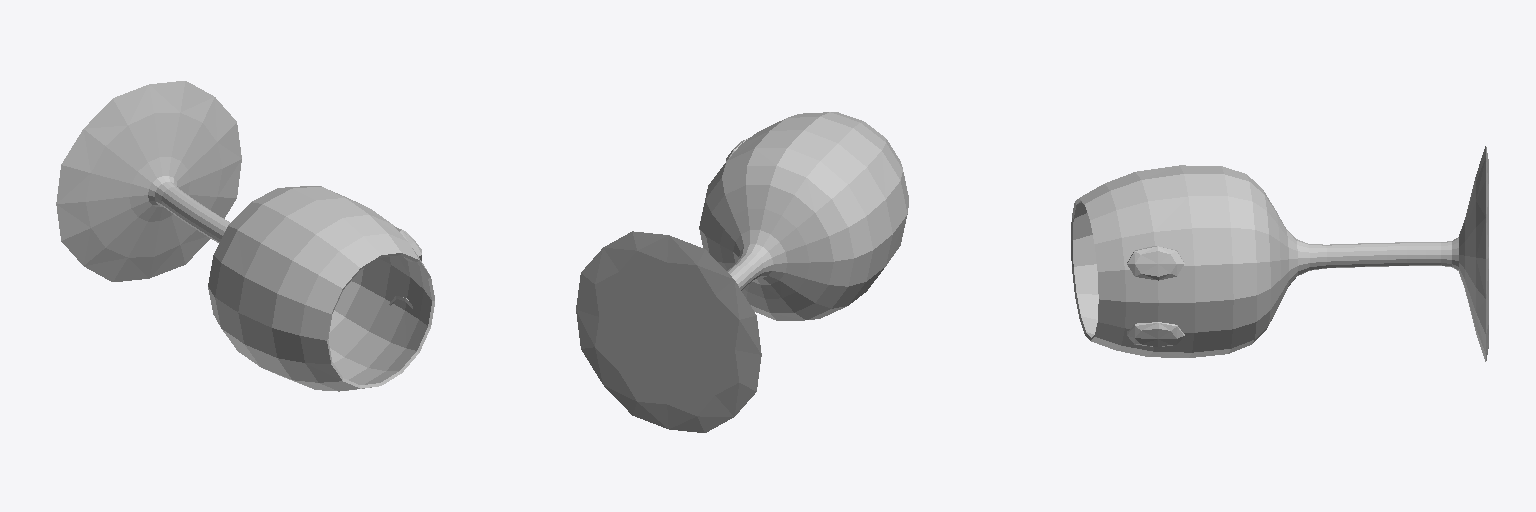
File: animation_000002.obj
3 renders of one model, left to right at view 1: azimuth 30°, elevation 25°; view 2: azimuth 150°, elevation 25°; view 3: azimuth 270°, elevation 25°, orthographic.
Bounding box in the file's own units: 2.15 × 2.06 × 4.03.